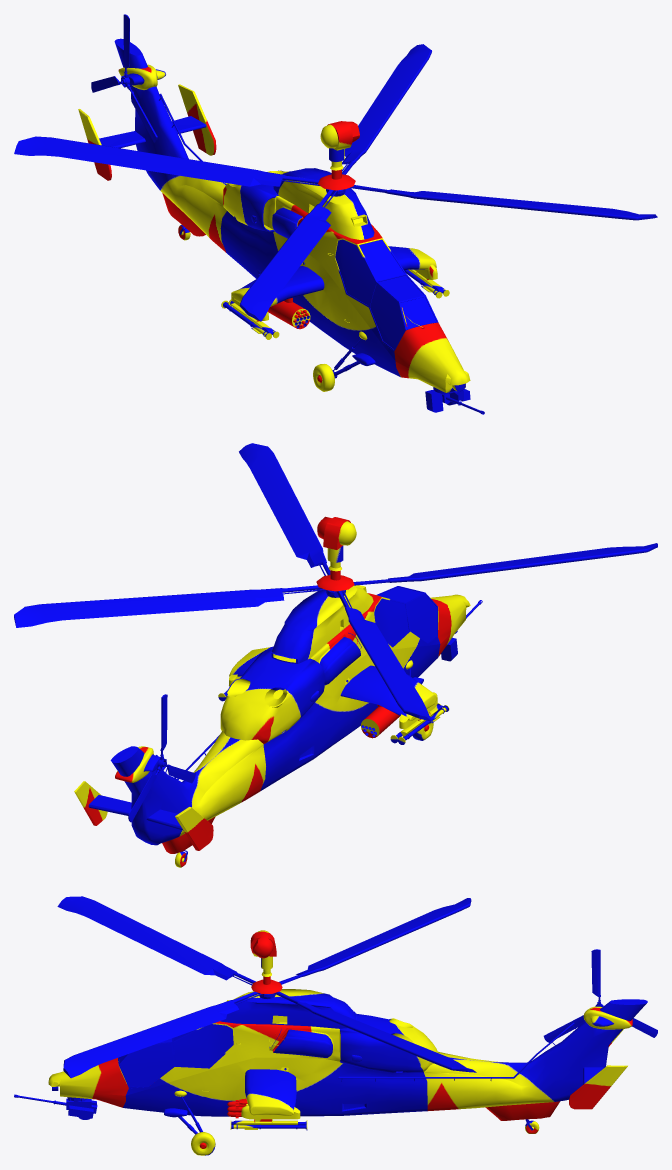
File: uhtiger.obj
The picture shows the model from 3 angles, top to bottom: view 1: azimuth 30°, elevation 25°; view 2: azimuth 150°, elevation 25°; view 3: azimuth 270°, elevation 25°; orthographic projection. The views are drawn at different scales.
Visible parts, largest first — view 1: body01, body01 gla; view 2: body01, body01 gla; view 3: body01, body01 gla.
Boxes of the visible parts, left/top/right/bottom form: body01: left=14, top=14, right=657, bottom=414; body01 gla: left=335, top=239, right=435, bottom=349; body01: left=14, top=443, right=657, bottom=867; body01 gla: left=374, top=587, right=437, bottom=645; body01: left=14, top=896, right=657, bottom=1155; body01 gla: left=119, top=1024, right=233, bottom=1115.
Size of the model in its own units: 21.45 by 11.2 by 32.91.
